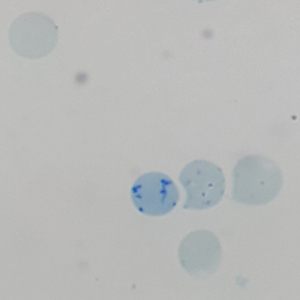aggregate reticulocyte: (129, 169, 182, 218)
erythrocyte: (6, 10, 61, 62), (176, 227, 224, 281)
punctate reticulocyte: (229, 152, 285, 207), (176, 158, 229, 213)
